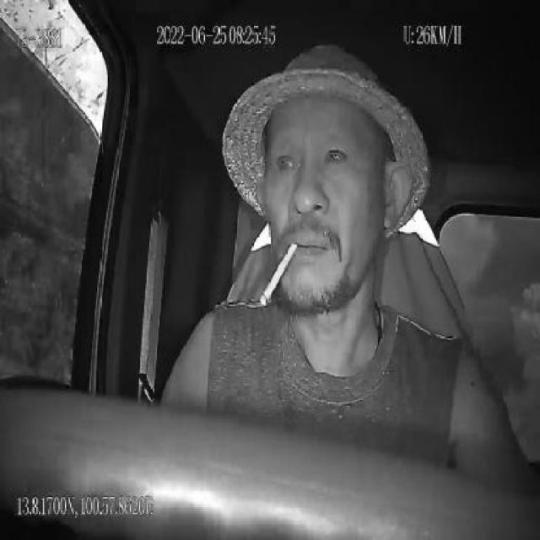smoking: (260, 240, 298, 304)
